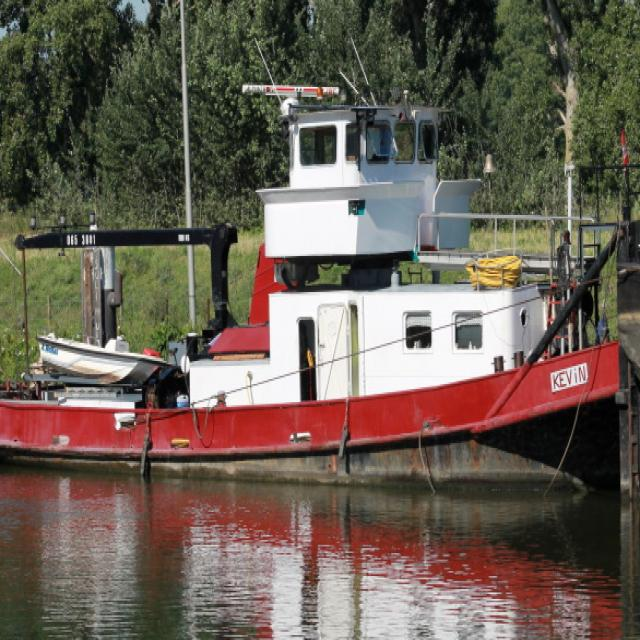tugboat: (1, 78, 640, 513)
